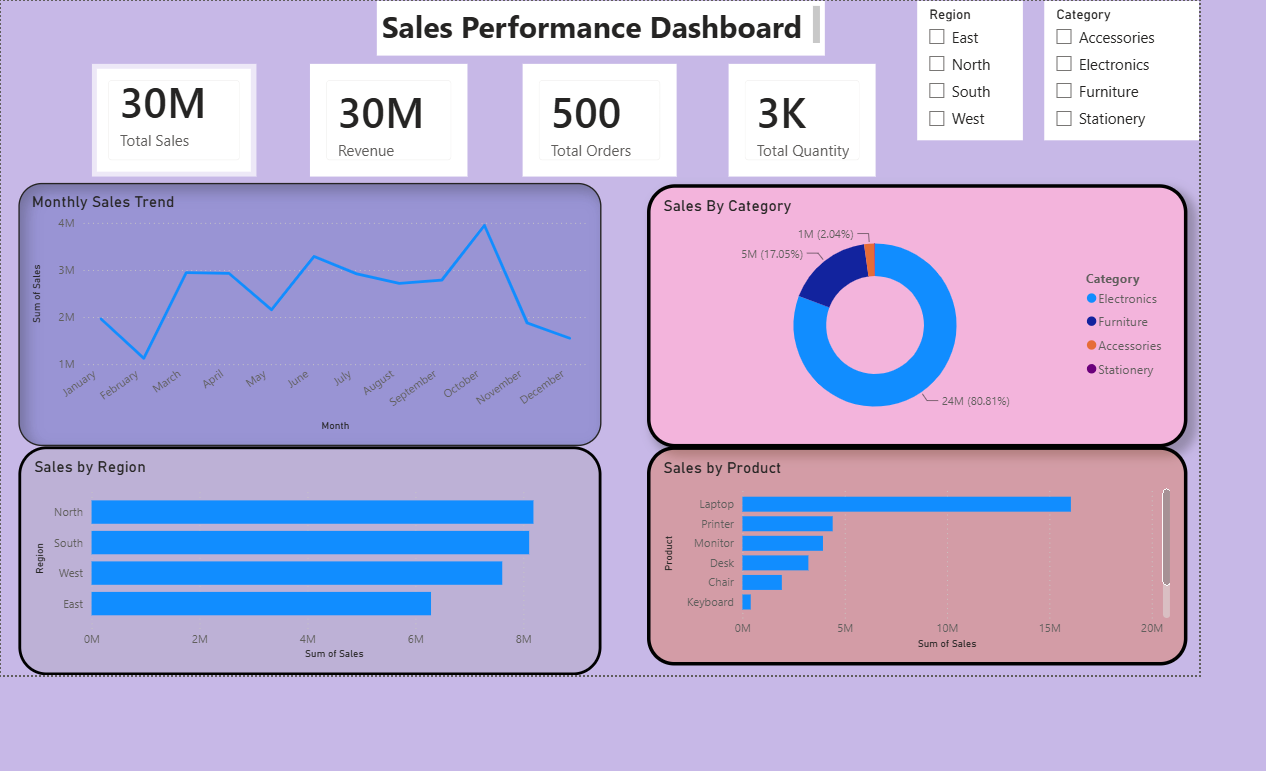

Layout of this report page (visuals, bound fields, positions):
{"tool":"powerbi","page":{"name":"Page 1","canvas":[1280,720],"ordinal":0},"visuals":[{"type":"cardVisual","fields":{"Data":["Sum(SalesData.Sales)"]},"box":[97.1,67.1,175.7,120],"z":0},{"type":"cardVisual","fields":{"Data":["Sum(SalesData.Sales)"]},"box":[330,67.1,168.6,120],"z":1000},{"type":"cardVisual","fields":{"Data":["CountNonNull(SalesData.Order ID)"]},"box":[557.1,67.1,164.3,120],"z":2000},{"type":"cardVisual","fields":{"Data":["Sum(SalesData.Quantity)"]},"box":[777.1,67.1,157.1,120],"z":3000},{"type":"lineChart","title":"Monthly Sales Trend","fields":{"Category":["SalesData.Date.Variation.Date Hierarchy.Month"],"Y":["Sum(SalesData.Sales)"]},"box":[18.6,194.3,622.9,281.4],"z":4000},{"type":"clusteredBarChart","title":"Sales by Region","fields":{"Category":["SalesData.Region"],"Y":["Sum(SalesData.Sales)"]},"box":[18.6,475.7,622.9,244.3],"z":5000},{"type":"donutChart","title":"Sales By Category","fields":{"Y":["Sum(SalesData.Sales)"],"Category":["SalesData.Category"]},"box":[690,195.7,577.1,281.4],"z":6000},{"type":"clusteredBarChart","title":"Sales by Product","fields":{"Category":["SalesData.Product"],"Y":["Sum(SalesData.Sales)"]},"box":[690,475.7,577.1,234.3],"z":7000},{"type":"slicer","fields":{"Values":["SalesData.Category"]},"box":[1114.3,0,165.7,148.6],"z":8000},{"type":"slicer","fields":{"Values":["SalesData.Region"]},"box":[978.6,0,112.9,148.6],"z":9000},{"type":"textbox","box":[401.4,0,478.6,58.6],"z":10000}]}

Visuals, with their boxes in screenshot pixels (x1, y1, x2, y2):
cardVisual - Sum(SalesData.Sales): bbox(85, 60, 250, 173)
cardVisual - Sum(SalesData.Sales): bbox(304, 60, 462, 173)
cardVisual - CountNonNull(SalesData.Order ID): bbox(518, 60, 672, 173)
cardVisual - Sum(SalesData.Quantity): bbox(725, 60, 872, 173)
"Monthly Sales Trend" lineChart: bbox(11, 179, 597, 444)
"Sales by Region" clusteredBarChart: bbox(11, 444, 597, 674)
"Sales By Category" donutChart: bbox(643, 181, 1186, 446)
"Sales by Product" clusteredBarChart: bbox(643, 444, 1186, 665)
slicer - SalesData.Category: bbox(1042, 0, 1198, 137)
slicer - SalesData.Region: bbox(914, 0, 1020, 137)
textbox: bbox(371, 0, 821, 52)
